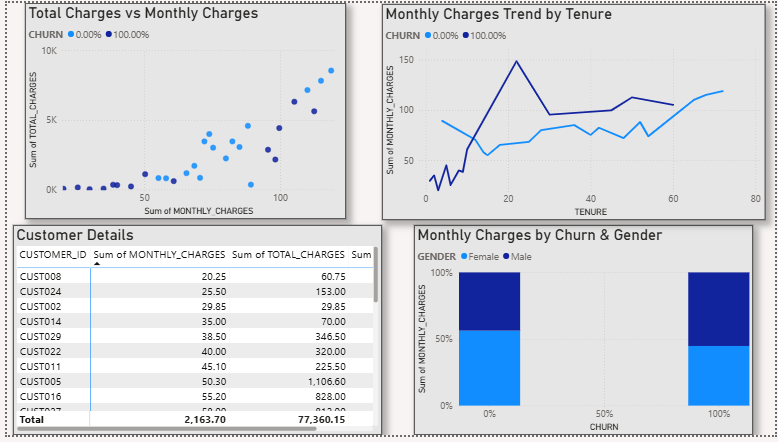

What the dashboard file says about the page in this screenshot:
{"tool":"powerbi","page":{"name":"Behavioral Trends","canvas":[1280,720],"ordinal":2},"visuals":[{"type":"scatterChart","title":"Total Charges vs Monthly Charges","fields":{"Series":["CUSTOMER_CHURN.CHURN"],"X":["Sum(CUSTOMER_CHURN.MONTHLY_CHARGES)"],"Y":["Sum(CUSTOMER_CHURN.TOTAL_CHARGES)"],"Category":["CUSTOMER_CHURN.CUSTOMER_ID"]},"box":[30,0,535,360],"z":0},{"type":"pivotTable","title":"Customer Details","fields":{"Rows":["CUSTOMER_CHURN.CUSTOMER_ID"],"Values":["Sum(CUSTOMER_CHURN.MONTHLY_CHARGES)","Sum(CUSTOMER_CHURN.TOTAL_CHARGES)","Sum(CUSTOMER_CHURN.CHURN)"]},"box":[10,370,615,350],"z":1000},{"type":"hundredPercentStackedColumnChart","title":"Monthly Charges by Churn & Gender","fields":{"Category":["CUSTOMER_CHURN.CHURN"],"Y":["Sum(CUSTOMER_CHURN.MONTHLY_CHARGES)"],"Series":["CUSTOMER_CHURN.GENDER"]},"box":[678.3,370,565,350],"z":2000},{"type":"lineChart","title":"Monthly Charges Trend by Tenure","fields":{"Category":["CUSTOMER_CHURN.TENURE"],"Y":["Sum(CUSTOMER_CHURN.MONTHLY_CHARGES)"],"Series":["CUSTOMER_CHURN.CHURN"]},"box":[625.7,1.4,638.6,360],"z":3000}]}

Visuals, with their boxes in screenshot pixels (x1, y1, x2, y2), scaled from the page's 1280x720 canvas onto the 778x442 screenshot:
"Total Charges vs Monthly Charges" scatterChart: box=[18, 0, 343, 221]
"Customer Details" pivotTable: box=[6, 227, 380, 441]
"Monthly Charges by Churn & Gender" hundredPercentStackedColumnChart: box=[412, 227, 756, 441]
"Monthly Charges Trend by Tenure" lineChart: box=[380, 1, 768, 222]
